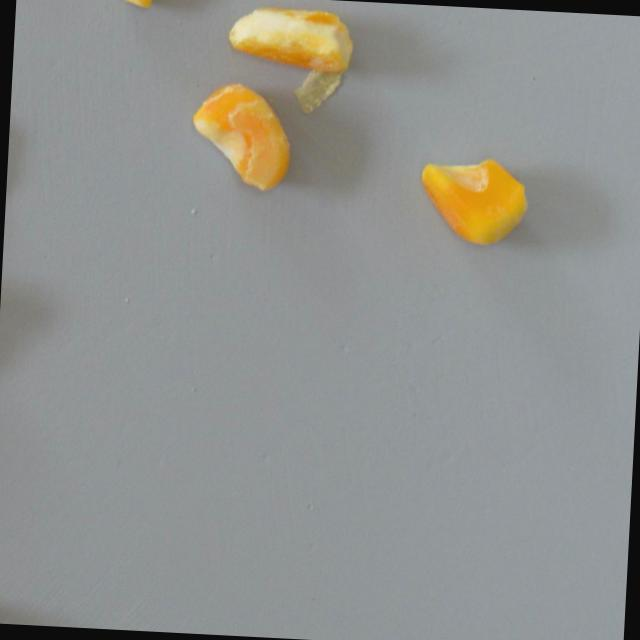dañado: (187, 79, 297, 196), (416, 151, 535, 251), (225, 0, 358, 82), (100, 0, 181, 17)
